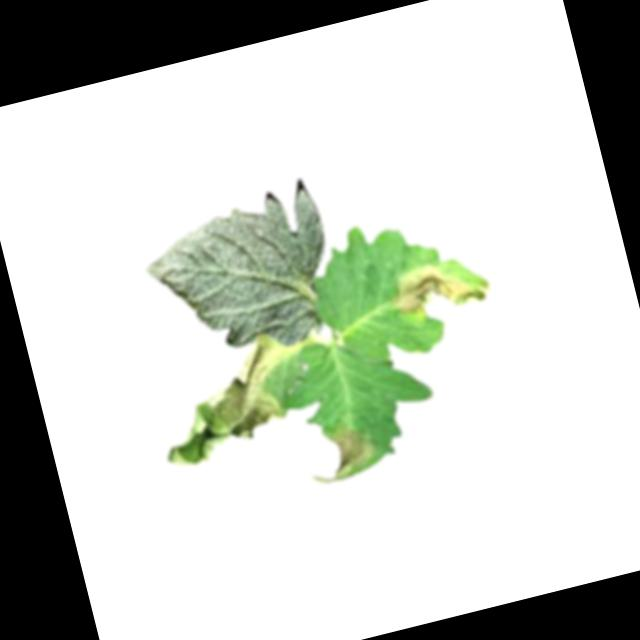Late_blight: (141, 319, 336, 473), (382, 246, 495, 322), (299, 422, 380, 488)
healthy: (132, 181, 348, 372)
